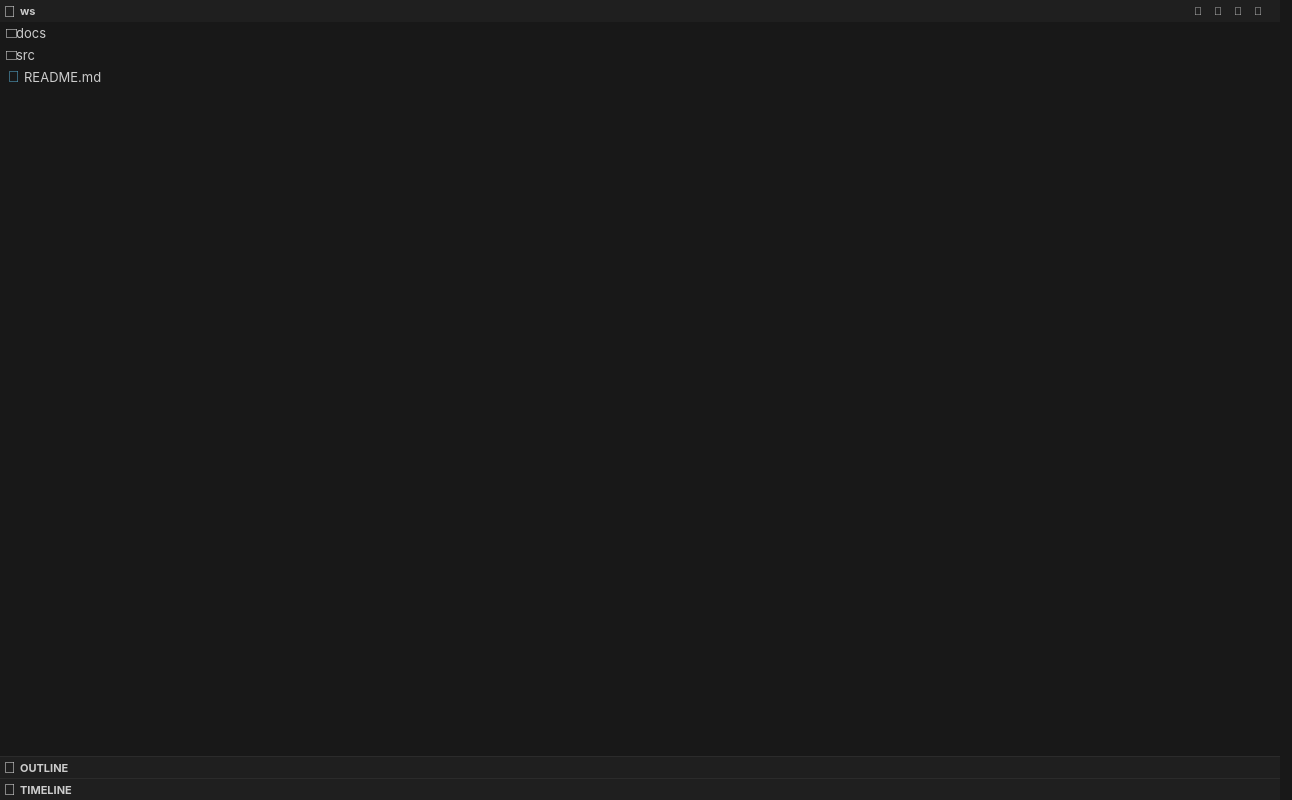
Test: ExplorerView — input inline criar/renomear (A1.1/A1.2, 04_02 §4) › Escape cancela o input inline sem criar nada
Check: the text "README.md" is shown, box [24,69,101,85]
Step 1. Click the button with test id "explorer-new-folder" → x=1220, y=11, box [1212,3,1228,19]
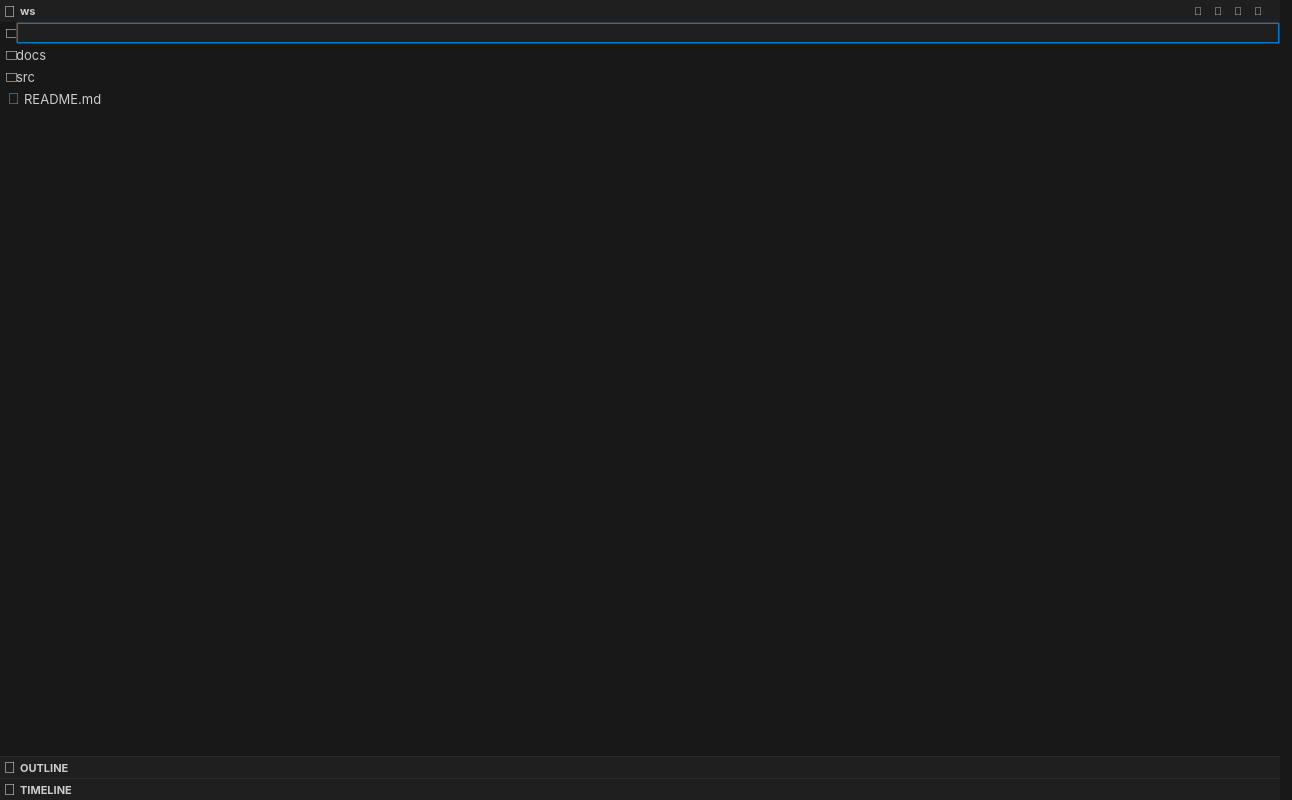
Step 2. Press Escape in the field with test id "explorer-inline-input", box [17,23,1279,43]
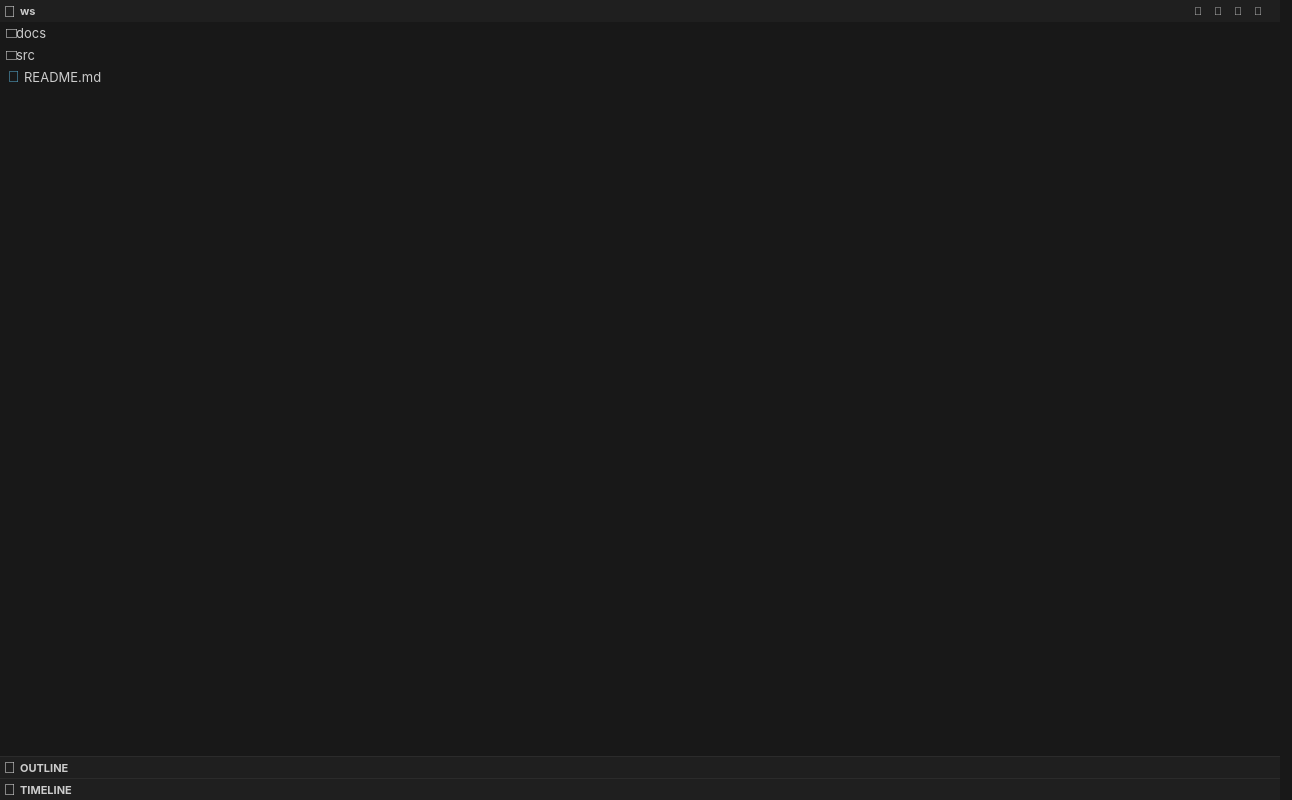
Check: the field with test id "explorer-inline-input" is gone
